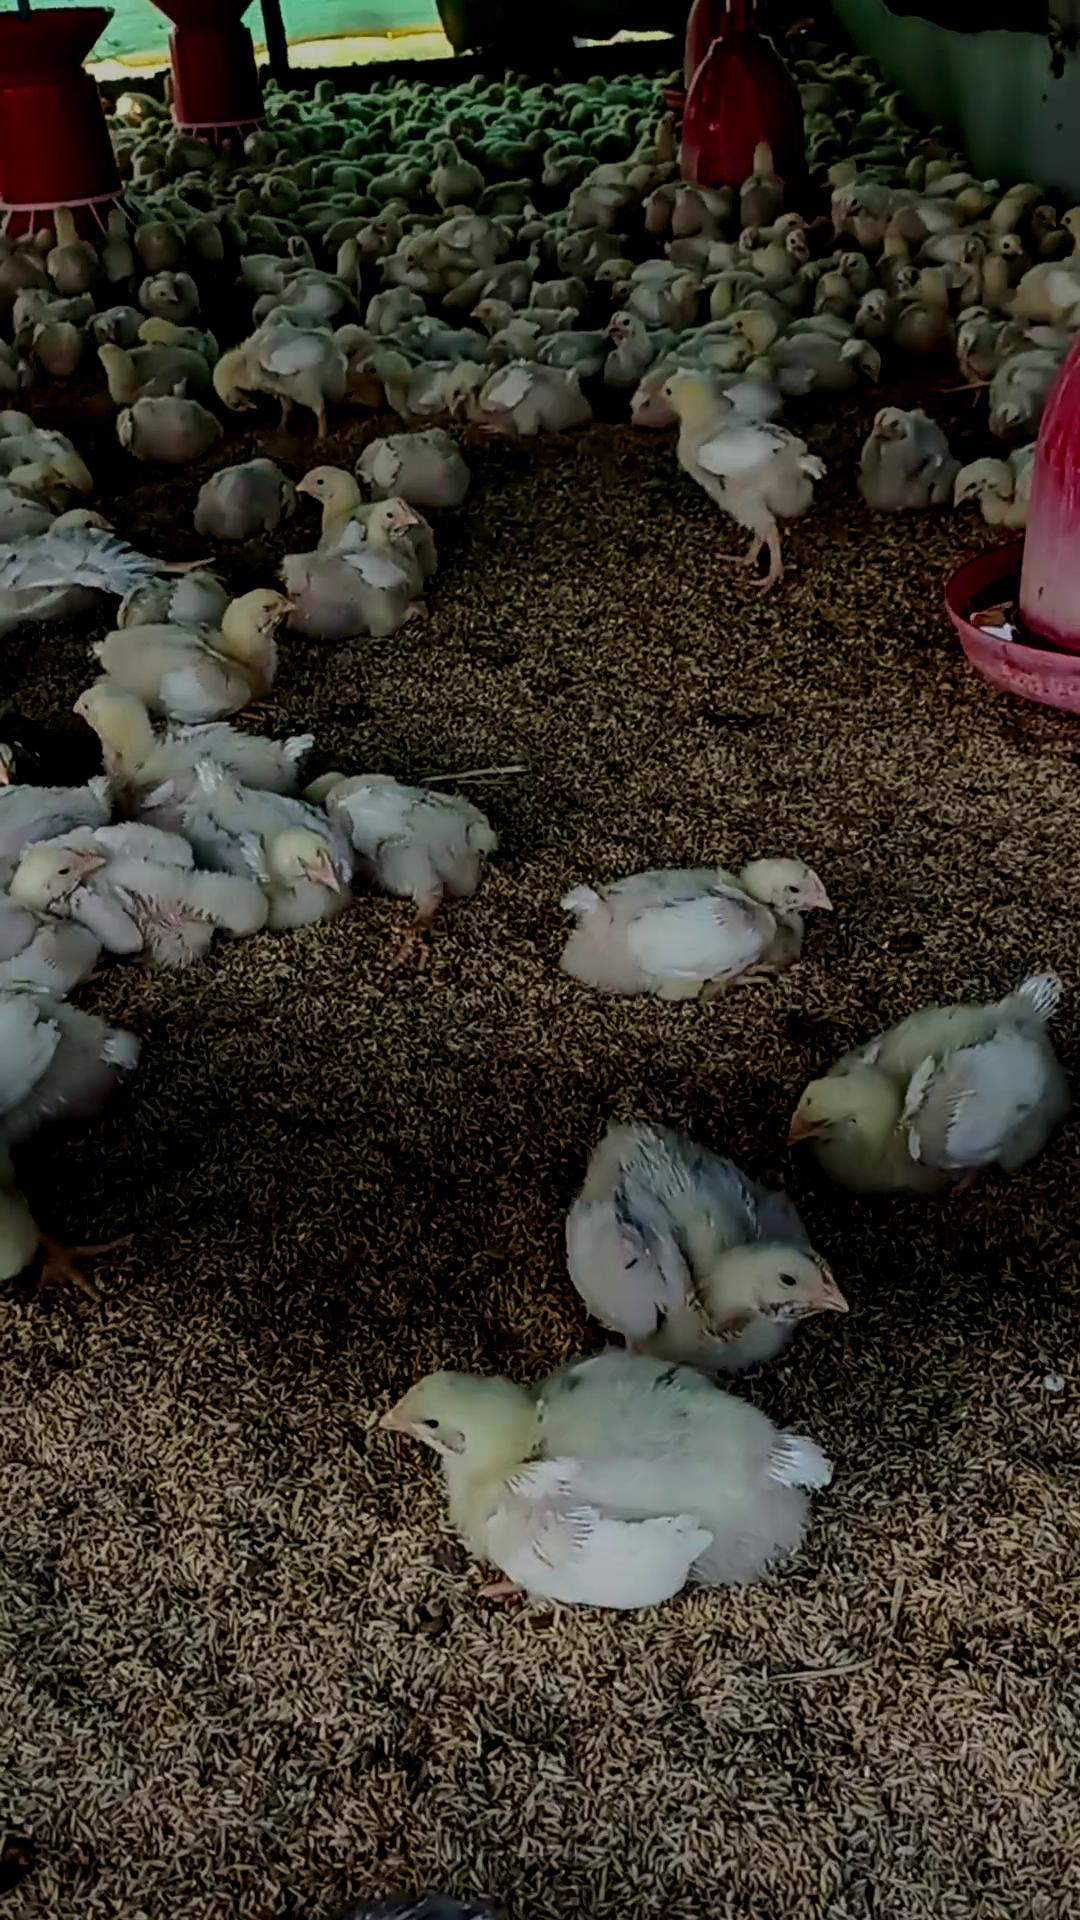Pollos: (382, 1352, 837, 1615), (574, 1104, 853, 1321), (787, 969, 1063, 1176), (555, 853, 831, 1004), (305, 760, 520, 910), (649, 357, 812, 549), (203, 771, 351, 938), (98, 584, 294, 703), (301, 502, 429, 640), (1, 847, 98, 1010), (196, 323, 367, 411), (1, 502, 105, 615), (853, 402, 947, 518), (949, 436, 1035, 549), (191, 448, 287, 546), (473, 357, 603, 427), (115, 389, 222, 467), (851, 289, 963, 357)
